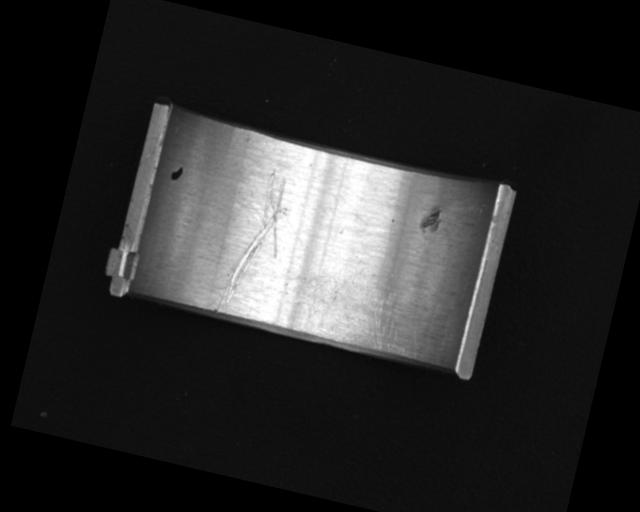blot: (168, 162, 185, 182)
bruise: (418, 204, 444, 235)
nick: (212, 163, 298, 322)
scratch: (300, 256, 426, 358)
